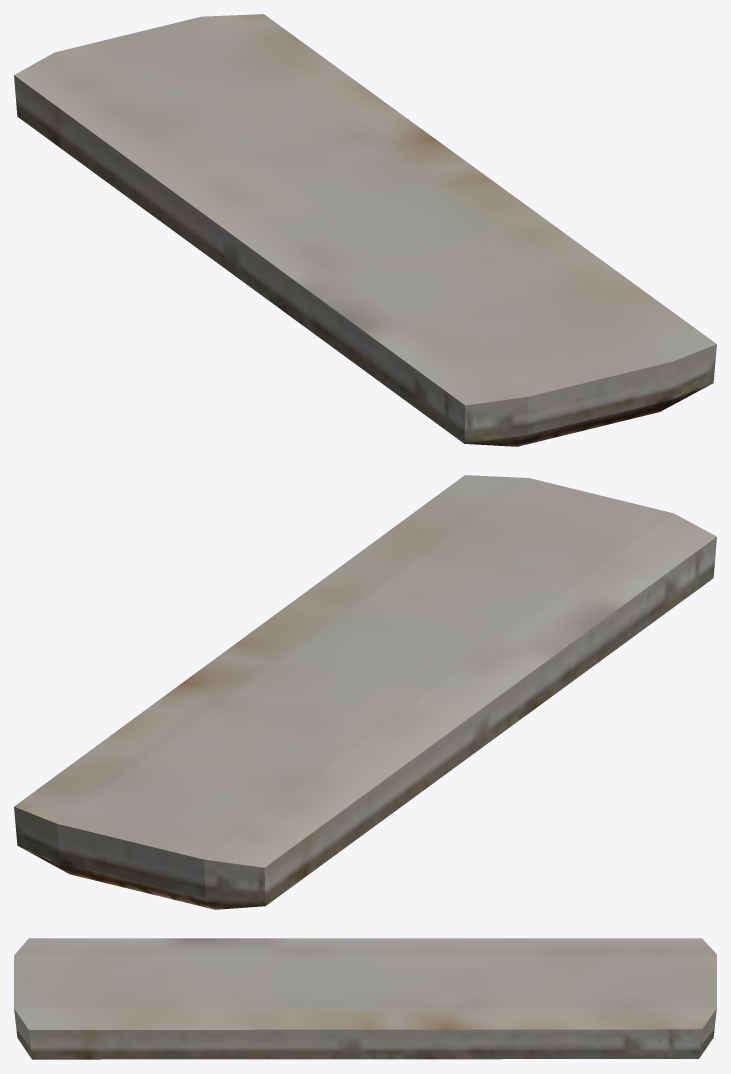
File: Prop_LightLan01.glb
3 views of the same model, one above another, from view 1: azimuth 30°, elevation 25°; view 2: azimuth 150°, elevation 25°; view 3: azimuth 270°, elevation 25° (orthographic). The views are drawn at different scales.
Parts seen in each view (by area): view 1: light_lan01; view 2: light_lan01; view 3: light_lan01.
Boxes of the visible parts, x1,y1,x2,y2 form: light_lan01: (14, 14, 716, 446); light_lan01: (14, 475, 716, 909); light_lan01: (14, 938, 716, 1059).
Bounding box in the file's own units: 0.7241 × 0.1626 × 2.35.
1 material, 1 textured.
